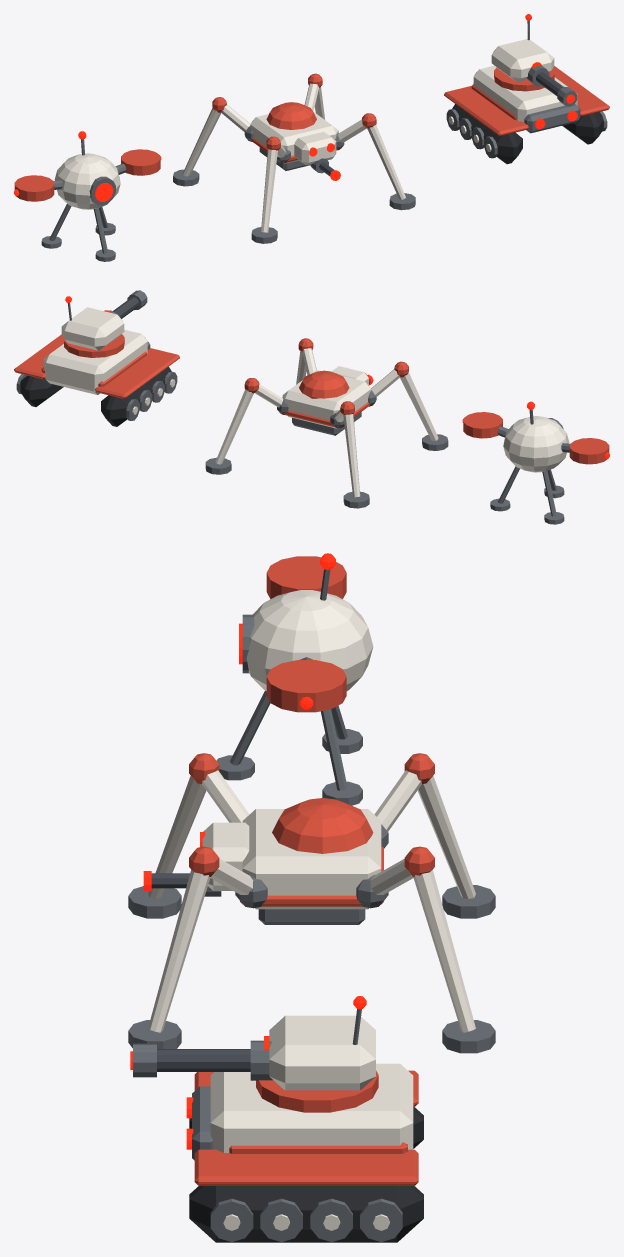
File: robot-drone-trio.glb
3 views of the same model, one above another, from view 1: azimuth 30°, elevation 25°; view 2: azimuth 150°, elevation 25°; view 3: azimuth 270°, elevation 25° (orthographic). The views are drawn at different scales.
Parts seen in each view (by area): view 1: Scout_Body, Tank_Hull, Turret_Body, Tank_Fender_L, Spider_Body, Spider_Dome, Tank_Tread_L, Spider_Head, Scout_Duct_L, Tank_HullFront, Scout_Duct_R, Tank_Fender_R (+9 smaller); view 2: Tank_Hull, Scout_Body, Turret_Body, Spider_Body, Tank_Fender_L, Spider_Dome, Tank_Tread_L, Scout_Duct_L, Scout_Duct_R, Tank_Tread_R, Spider_Shin_BL, Tank_Fender_R (+10 smaller); view 3: Tank_Hull, Scout_Body, Spider_Body, Turret_Body, Tank_Fender_R, Tank_Tread_R, Spider_Dome, Scout_Duct_R, Spider_Shin_BR, Spider_Shin_FR, Turret_Base, Scout_Duct_L (+19 smaller).
Boxes of the visible parts, x1,y1,x2,y2 form: Scout_Body: (54, 153, 120, 209); Tank_Hull: (473, 65, 577, 122); Turret_Body: (491, 39, 554, 82); Tank_Fender_L: (444, 85, 528, 136); Spider_Body: (250, 111, 338, 163); Spider_Dome: (266, 102, 316, 129); Tank_Tread_L: (452, 104, 522, 164); Spider_Head: (294, 131, 336, 165); Scout_Duct_L: (14, 175, 54, 201); Tank_HullFront: (524, 104, 580, 133); Scout_Duct_R: (121, 149, 160, 175); Tank_Fender_R: (553, 66, 609, 116); Tank_Hull: (43, 329, 147, 394); Scout_Body: (503, 416, 569, 472); Turret_Body: (61, 307, 124, 350); Spider_Body: (282, 370, 370, 428); Tank_Fender_L: (95, 348, 179, 398); Spider_Dome: (299, 370, 349, 398); Tank_Tread_L: (101, 366, 171, 426); Scout_Duct_L: (569, 438, 609, 464); Scout_Duct_R: (463, 412, 502, 438); Tank_Tread_R: (20, 375, 63, 406); Spider_Shin_BL: (343, 414, 360, 497); Tank_Fender_R: (14, 334, 64, 379); Tank_Hull: (210, 1063, 413, 1152); Scout_Body: (246, 590, 373, 691); Spider_Body: (242, 809, 381, 909); Turret_Body: (269, 1015, 375, 1090); Tank_Fender_R: (194, 1149, 418, 1185); Tank_Tread_R: (189, 1186, 423, 1242); Spider_Dome: (272, 798, 373, 853); Scout_Duct_R: (266, 660, 346, 712); Spider_Shin_BR: (413, 869, 475, 1032); Spider_Shin_FR: (148, 869, 210, 1032); Turret_Base: (256, 1070, 378, 1112); Scout_Duct_L: (266, 556, 346, 598).
Size of the model in its own units: 24.66 by 4.53 by 6.88.
